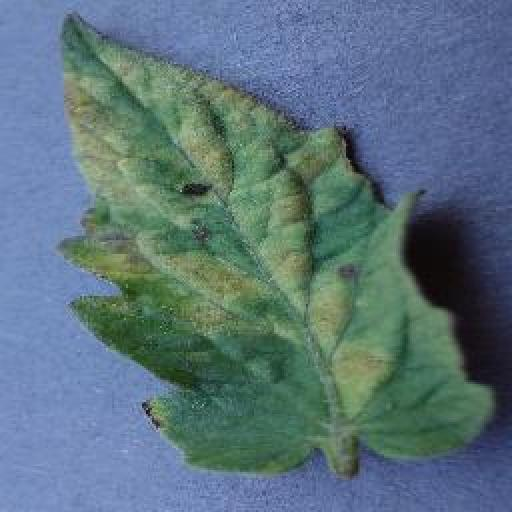disease_tomato: (58, 8, 495, 472)
